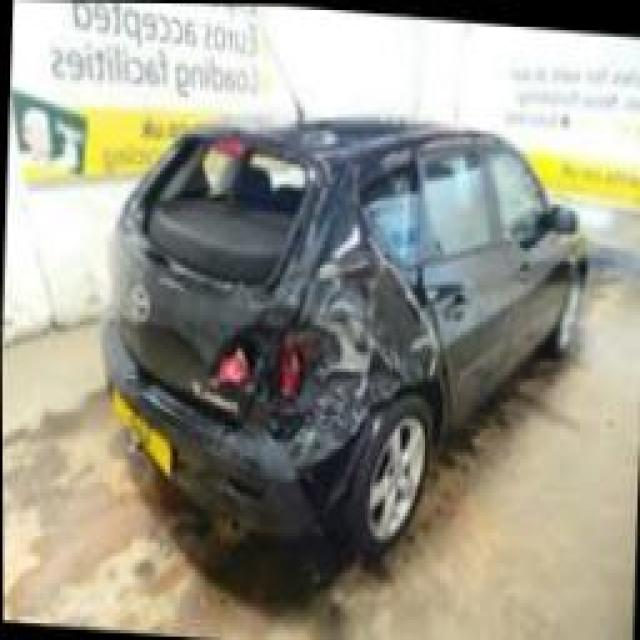replaceable: (317, 180, 429, 376), (208, 299, 344, 440), (153, 153, 305, 258), (306, 452, 352, 515)
